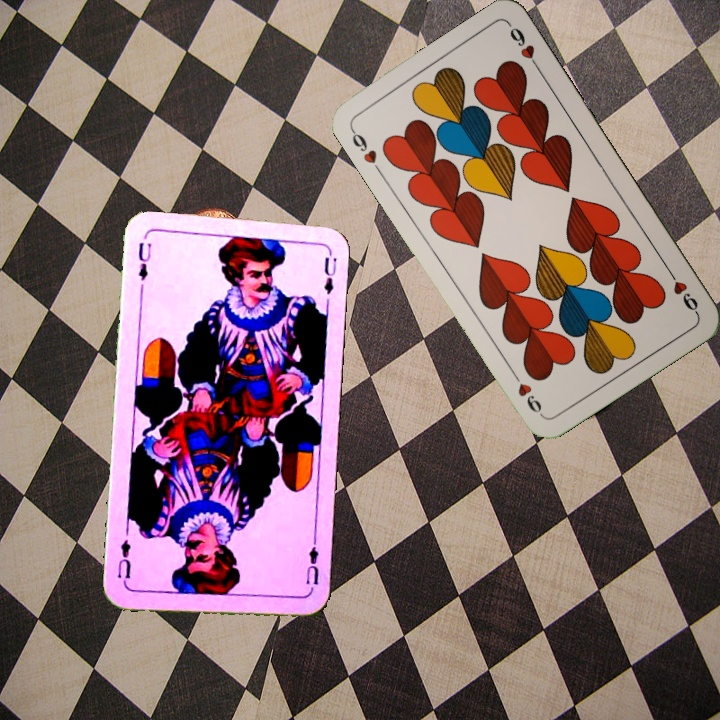EU: (301, 536, 321, 595), (134, 238, 154, 284)
H9: (662, 264, 701, 316), (346, 124, 380, 167)
